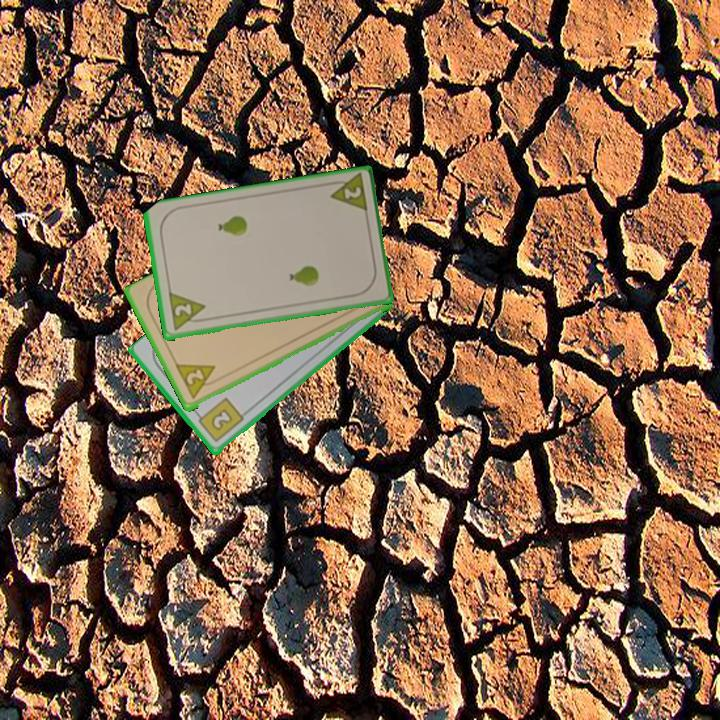2b: (192, 395, 247, 445)
2p: (172, 361, 223, 402), (324, 171, 370, 216), (165, 290, 210, 334)
